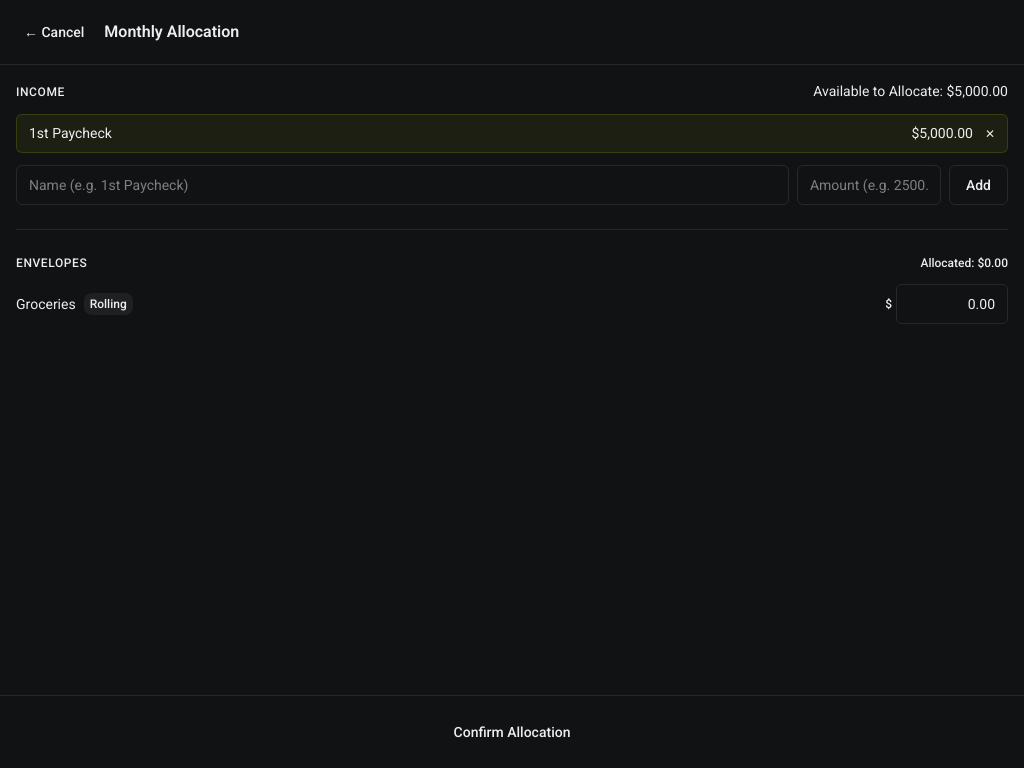
Test: AllocationPage › updates Available to Allocate live as envelope amounts are typed
Replace the text in the field with test id "allocation-input-1" with "100.00" at (952, 304), box [896, 284, 1008, 324]
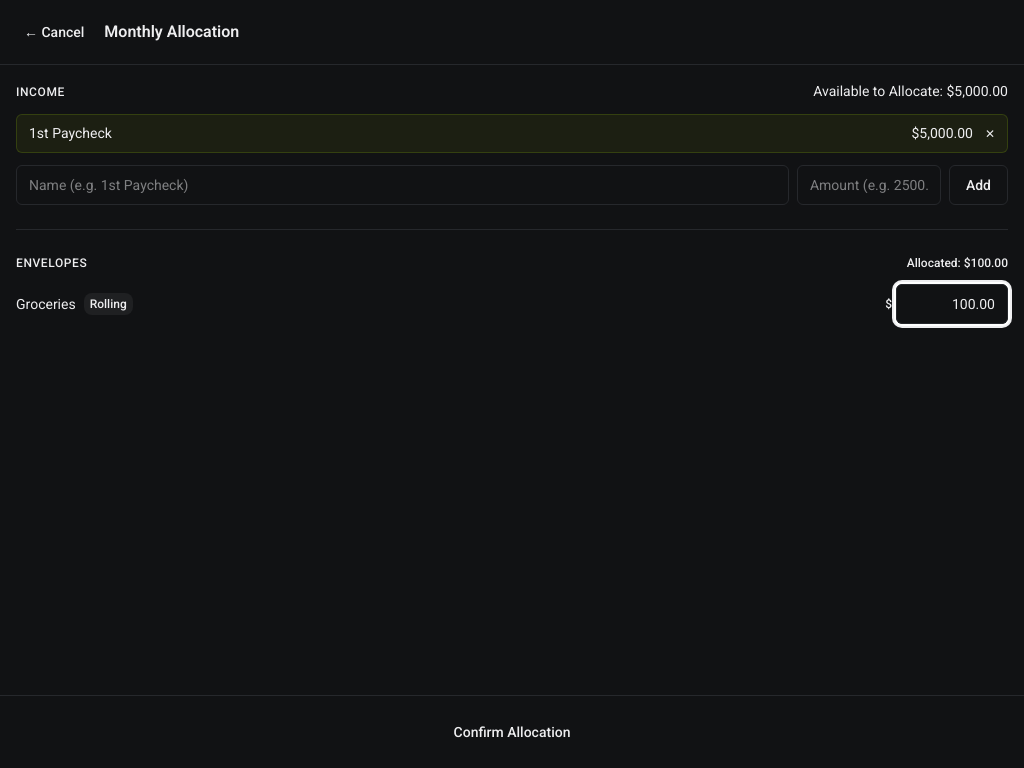
Now the text with test id "allocated-total" shows "$100.00", box [964, 256, 1008, 270]
